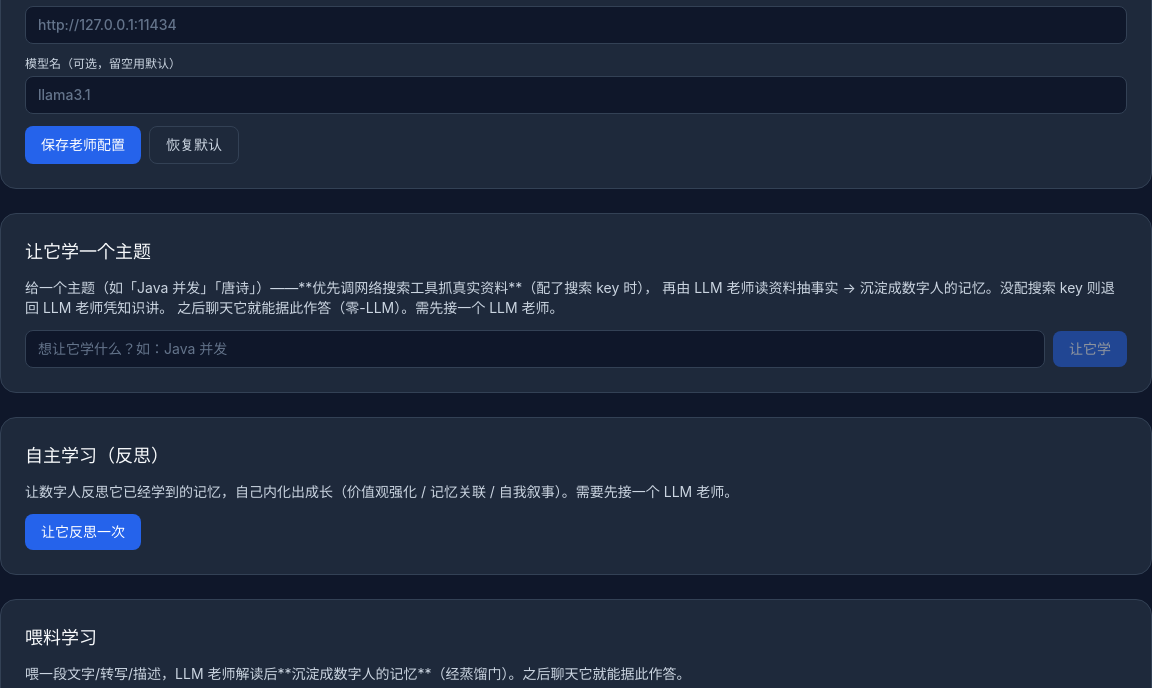
Test: CompanionLearningPage（LLM 老师学习） › 学主题 400 → 显示后端真实原因（不吞成「操作失败（HTTP 400）」）
(page scrolled)
In the field named "学习主题": (535, 349) [25,330,1045,368], type "Java"
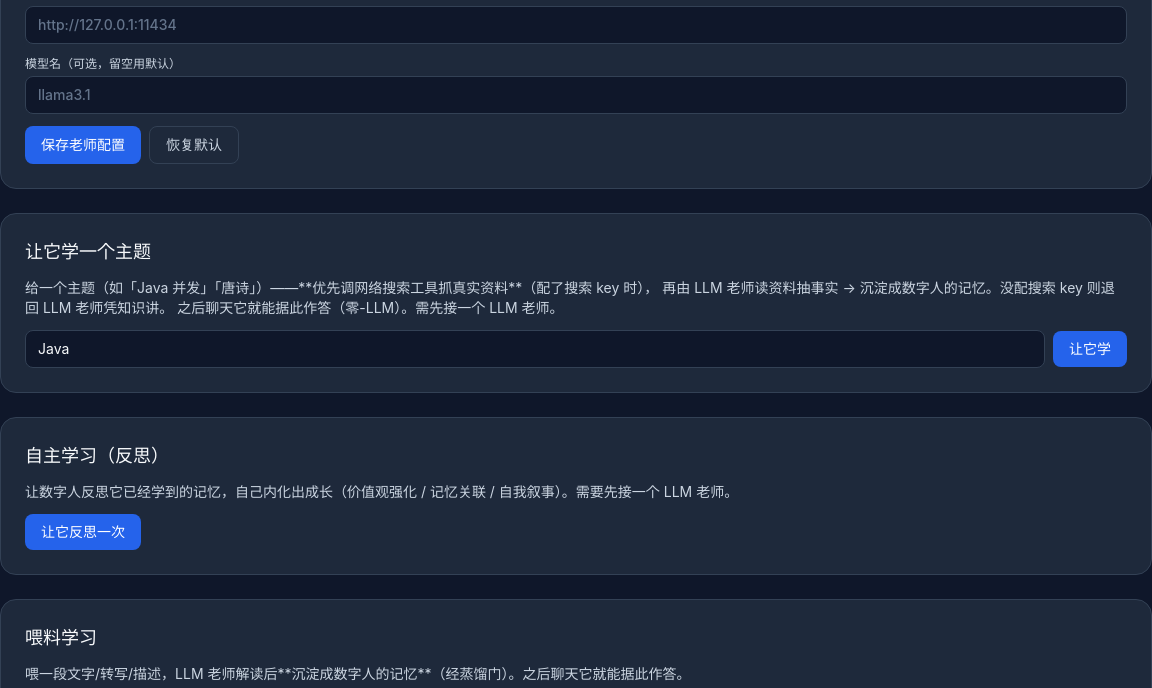
Click the button "让它学": (1090, 349) [1053,331,1127,367]
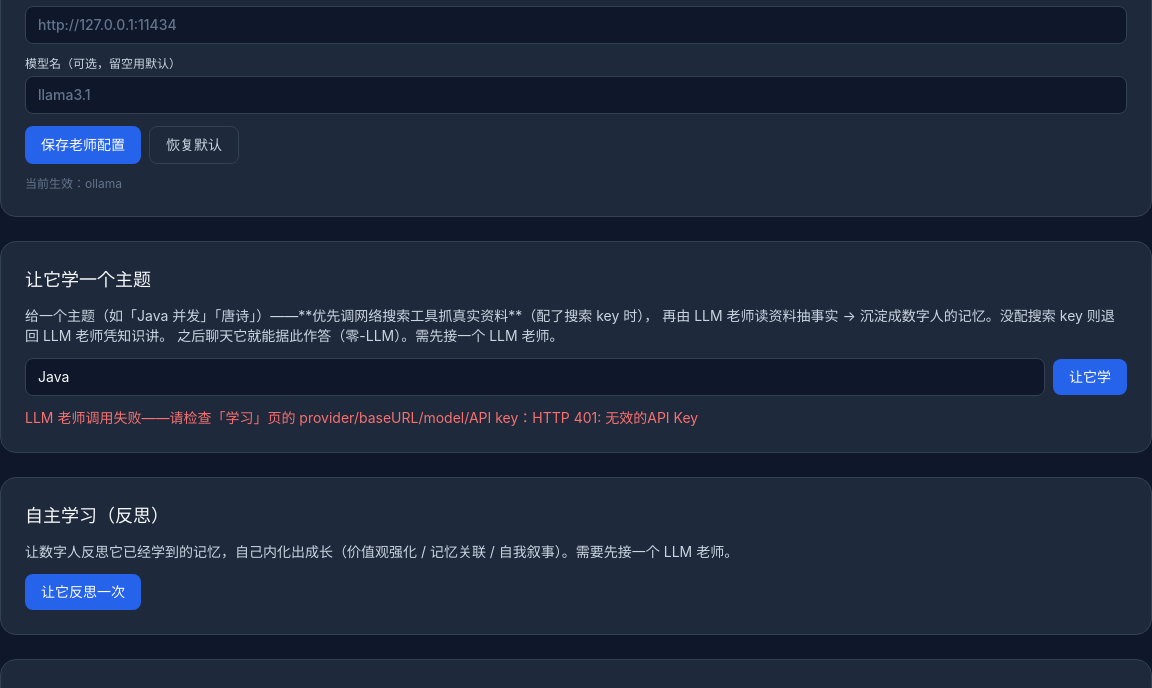
Expected: the text "LLM 老师调用失败——请检查「学习」页的 provider/baseURL/model/API key：HTTP 401: 无效的API Key" is shown, [25,409,698,426]
